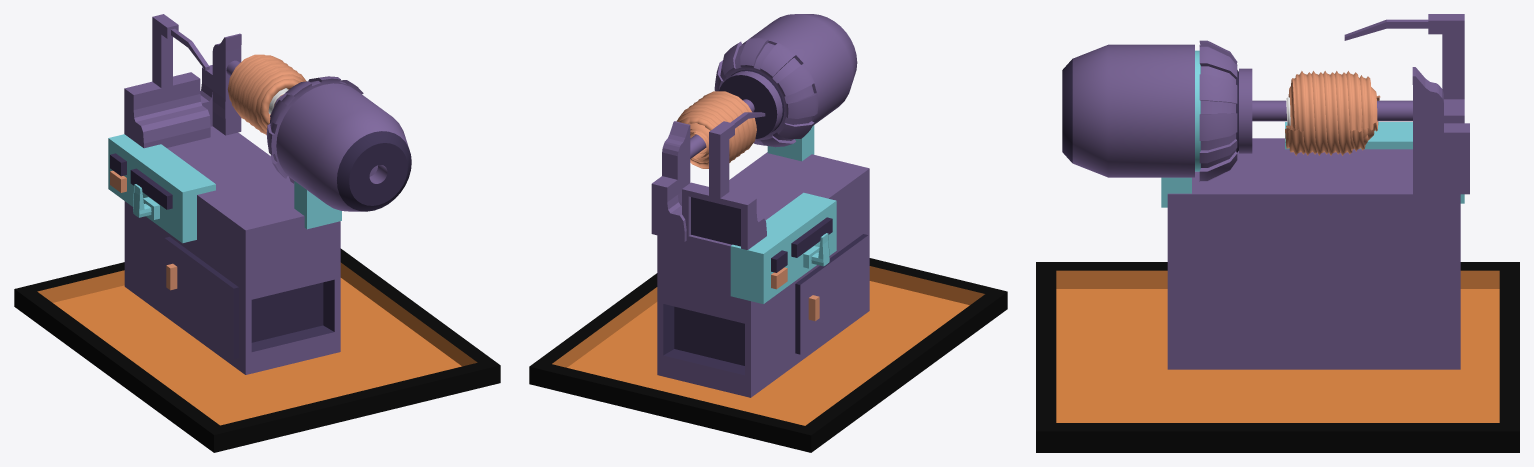
The model's file is SurfaceArea_Wiring.fbx.
3 views of the same model, side by side, from view 1: azimuth 30°, elevation 25°; view 2: azimuth 150°, elevation 25°; view 3: azimuth 270°, elevation 25° (orthographic). The views are drawn at different scales.
Visible parts, largest first — view 1: Wiring, Cube.337, Cylinder.317, Cube.339, Cube.338, Circle.045, Cube.340, Cube.341, Cube.344, Cube.345; view 2: Wiring, Cube.337, Cylinder.317, Cube.339, Cube.338, Cube.340, Circle.045, Cube.341, Cube.344, Cube.345; view 3: Wiring, Cube.337, Cylinder.317, Circle.045, Cube.340, Cube.339, Cube.338, Cube.341.
Part boxes in pixels (x1=…): Wiring: x1=14, y1=248, x2=500, y2=452; Cube.337: x1=124, y1=126, x2=340, y2=374; Cylinder.317: x1=226, y1=60, x2=411, y2=211; Cube.339: x1=124, y1=14, x2=210, y2=148; Cube.338: x1=108, y1=134, x2=215, y2=243; Circle.045: x1=227, y1=54, x2=306, y2=134; Cube.340: x1=200, y1=33, x2=241, y2=135; Cube.341: x1=294, y1=181, x2=341, y2=229; Cube.344: x1=130, y1=168, x2=172, y2=209; Cube.345: x1=133, y1=184, x2=159, y2=219; Wiring: x1=529, y1=258, x2=1007, y2=452; Cube.337: x1=657, y1=152, x2=869, y2=397; Cylinder.317: x1=690, y1=14, x2=857, y2=158; Cube.339: x1=682, y1=112, x2=766, y2=250; Cube.338: x1=730, y1=192, x2=836, y2=304; Cube.340: x1=651, y1=121, x2=690, y2=241; Circle.045: x1=676, y1=91, x2=756, y2=168; Cube.341: x1=767, y1=125, x2=814, y2=161; Cube.344: x1=791, y1=217, x2=832, y2=257; Cube.345: x1=803, y1=233, x2=829, y2=268; Wiring: x1=1036, y1=262, x2=1519, y2=452; Cube.337: x1=1167, y1=138, x2=1460, y2=369; Cylinder.317: x1=1062, y1=40, x2=1412, y2=181; Circle.045: x1=1285, y1=71, x2=1380, y2=155; Cube.340: x1=1412, y1=67, x2=1469, y2=194; Cube.339: x1=1344, y1=14, x2=1464, y2=123; Cube.338: x1=1285, y1=122, x2=1464, y2=203; Cube.341: x1=1161, y1=177, x2=1191, y2=207.
Bounding box in the file's own units: 2.61 × 3.15 × 2.45.
